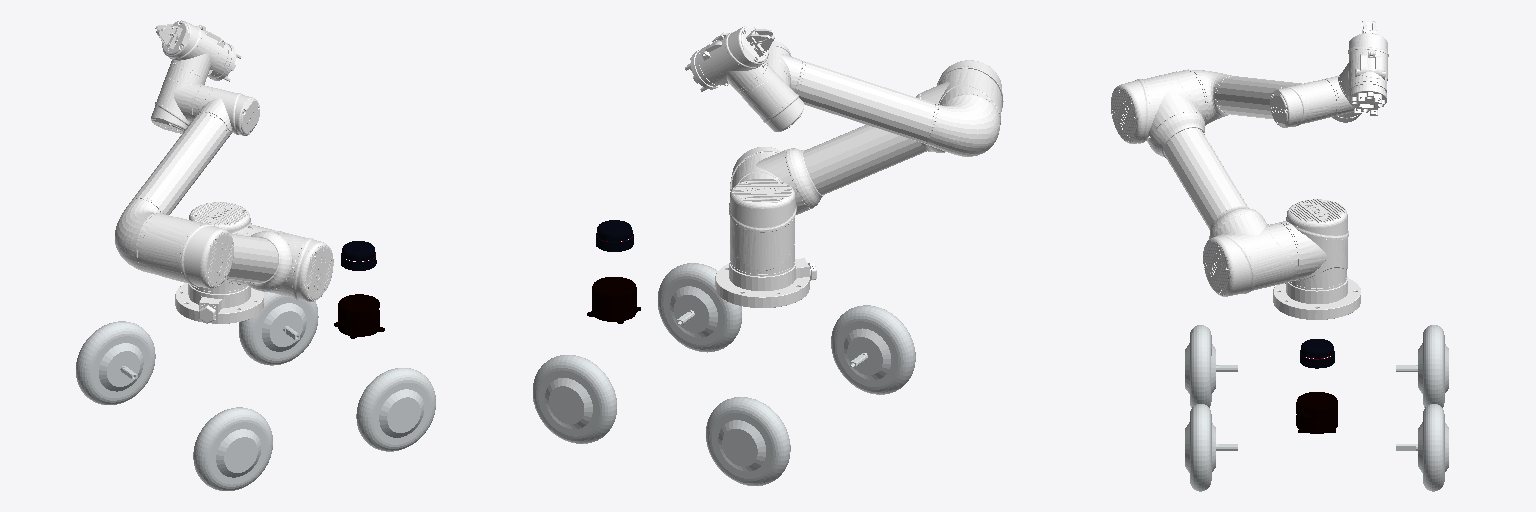
URDF robot description (car4wd):
<?xml version="1.0"?>
<robot
  name="car4wd">
  <link name="base_footprint"/>
  <link
    name="base_link">
    <inertial>
      <origin
        xyz="-0.00133489696806633 -0.000858065236190794 0.0742947770696504"
        rpy="0 0 0" />
      <mass
        value="16.922536366276" />
      <inertia
        ixx="0.280375488027476"
        ixy="-3.3746922545933E-05"
        ixz="0.00723948806637425"
        iyy="0.376422394252491"
        iyz="-0.00156225089406068"
        izz="0.379035593736401" />
    </inertial>
    <visual>
      <origin
        xyz="0 0 0"
        rpy="0 0 0" />
      <geometry>
        <mesh
          filename="package://car4wd/meshes/base_link.STL" />
      </geometry>
      <material
        name="">
        <color
          rgba="0.752941176470588 0.752941176470588 0.752941176470588 1" />
      </material>
    </visual>
    <collision>
      <origin
        xyz="0 0 0"
        rpy="0 0 0" />
      <geometry>
        <mesh
          filename="package://car4wd/meshes/base_link.STL" />
      </geometry>
    </collision>
  </link>
    <joint name="bash_link_joint" type="fixed">
        <axis rpy="0 0 0" xyz="0 0 0"/>
        <origin rpy="0 0 0" xyz="0 0 0"/>
        <parent link="base_footprint"/>
        <child link="base_link"/>
    </joint>
  <link
    name="1_Link">
    <inertial>
      <origin
        xyz="-0 0 0"
        rpy="0 0 0" />
      <mass
        value="2.61977729811143" />
      <inertia
        ixx="0"
        ixy="0"
        ixz="0"
        iyy="0"
        iyz="0"
        izz="0" />
    </inertial>
    <visual>
      <origin
        xyz="0 0 0"
        rpy="0 0 0" />
      <geometry>
        <mesh
          filename="package://car4wd/meshes/1_Link.STL" />
      </geometry>
      <material
        name="">
        <color
          rgba="0.898039215686275 0.917647058823529 0.929411764705882 1" />
      </material>
    </visual>
    <collision>
      <origin
        xyz="0 0 0"
        rpy="0 0 0" />
      <geometry>
        <mesh
          filename="package://car4wd/meshes/1_Link.STL" />
      </geometry>
    </collision>
  </link>
  <joint
    name="1"
    type="continuous">
    <origin
      xyz="-0.18 -0.152 0"
      rpy="0 1.5707963267949 3.14" />
    <parent
      link="base_link" />
    <child
      link="1_Link" />
    <axis
      xyz="0 -1 0" />
  </joint>
  <link
    name="2_Link">
    <inertial>
      <origin
        xyz="0 0 0"
        rpy="0 0 0" />
      <mass
        value="2.61977729811143" />
      <inertia
        ixx="0"
        ixy="0"
        ixz="0"
        iyy="0"
        iyz="0"
        izz="0" />
    </inertial>
    <visual>
      <origin
        xyz="0 0 0"
        rpy="0 0 0" />
      <geometry>
        <mesh
          filename="package://car4wd/meshes/2_Link.STL" />
      </geometry>
      <material
        name="">
        <color
          rgba="0.898039215686275 0.917647058823529 0.929411764705882 1" />
      </material>
    </visual>
    <collision>
      <origin
        xyz="0 0 0"
        rpy="0 0 0" />
      <geometry>
        <mesh
          filename="package://car4wd/meshes/2_Link.STL" />
      </geometry>
    </collision>
  </link>
  <joint
    name="2"
    type="continuous">
    <origin
      xyz="0.18 -0.152 0"
      rpy="3.14159265358979 1.5707963267949 0" />
    <parent
      link="base_link" />
    <child
      link="2_Link" />
    <axis
      xyz="0 -1 0" />
  </joint>
  <link
    name="3_Link">
    <inertial>
      <origin
        xyz="0 0 0"
        rpy="0 0 0" />
      <mass
        value="2.61977729811143" />
      <inertia
        ixx="0"
        ixy="0"
        ixz="0"
        iyy="0"
        iyz="0"
        izz="0" />
    </inertial>
    <visual>
      <origin
        xyz="0 0 0"
        rpy="0 0 0" />
      <geometry>
        <mesh
          filename="package://car4wd/meshes/3_Link.STL" />
      </geometry>
      <material
        name="">
        <color
          rgba="0.898039215686275 0.917647058823529 0.929411764705882 1" />
      </material>
    </visual>
    <collision>
      <origin
        xyz="0 0 0"
        rpy="0 0 0" />
      <geometry>
        <mesh
          filename="package://car4wd/meshes/3_Link.STL" />
      </geometry>
    </collision>
  </link>
  <joint
    name="3"
    type="continuous">
    <origin
      xyz="0.18 0.152 0"
      rpy="2.69705607354159E-16 -0.0054048692832654 -2.9284720911018E-15" />
    <parent
      link="base_link" />
    <child
      link="3_Link" />
    <axis
      xyz="0 1 0" />
  </joint>
  <link
    name="4_Link">
    <inertial>
      <origin
        xyz="0 0 0"
        rpy="0 0 0" />
      <mass
        value="2.61977729811143" />
      <inertia
        ixx="0"
        ixy="0"
        ixz="0"
        iyy="0"
        iyz="0"
        izz="0" />
    </inertial>
    <visual>
      <origin
        xyz="0 0 0"
        rpy="0 0 0" />
      <geometry>
        <mesh
          filename="package://car4wd/meshes/4_Link.STL" />
      </geometry>
      <material
        name="">
        <color
          rgba="0.898039215686275 0.917647058823529 0.929411764705882 1" />
      </material>
    </visual>
    <collision>
      <origin
        xyz="0 0 0"
        rpy="0 0 0" />
      <geometry>
        <mesh
          filename="package://car4wd/meshes/4_Link.STL" />
      </geometry>
    </collision>
  </link>
  <joint
    name="4"
    type="continuous">
    <origin
      xyz="-0.18 0.152 0"
      rpy="-3.14159265358974 1.5098214433719 -3.14159265358974" />
    <parent
      link="base_link" />
    <child
      link="4_Link" />
    <axis
      xyz="0 1 0" />
  </joint>
  <link
    name="laser_Link">
    <inertial>
      <origin
        xyz="-0.000209603421815946 0.000120725292981872 -0.00801987647485995"
        rpy="0 0 0" />
      <mass
        value="0.271699065752244" />
      <inertia
        ixx="0"
        ixy="0"
        ixz="0"
        iyy="0"
        iyz="0"
        izz="0" />
    </inertial>
    <visual>
      <origin
        xyz="0 0 0"
        rpy="0 0 0" />
      <geometry>
        <mesh
          filename="package://car4wd/meshes/laser_Link.STL" />
      </geometry>
      <material
        name="">
        <color
          rgba="0.0588235294117647 0.00784313725490196 0 1" />
      </material>
    </visual>
    <collision>
      <origin
        xyz="0 0 0"
        rpy="0 0 0" />
      <geometry>
        <mesh
          filename="package://car4wd/meshes/laser_Link.STL" />
      </geometry>
    </collision>
  </link>
  <joint
    name="laser"
    type="fixed">
    <origin
      xyz="0.228 0 0.105"
      rpy="0 0 0" />
    <parent
      link="base_link" />
    <child
      link="laser_Link" />
    <axis
      xyz="0 0 0" />
  </joint>
<link name="rplidar">
        <inertial>
            <mass value="1e-5"/>
            <origin rpy="0 0 0" xyz="0 0 0"/>
            <inertia ixx="1e-6" ixy="0" ixz="0" iyy="1e-6" iyz="0" izz="1e-6"/>
        </inertial>
        <visual>
            <origin rpy="0 0 0" xyz="0 0 0"/>
            <geometry>
                <mesh filename="package://car4wd/meshes/rplidar.dae"/>
            </geometry>
            <material name="blue"/>
        </visual>
        <collision>
            <origin rpy="0 0 0" xyz="0 0 0"/>
            <geometry>
                <mesh filename="package://car4wd/meshes/rplidar.dae"/> 
            </geometry>
        </collision>
    </link>
    <joint name="rplidar_joint" type="fixed">
        <axis xyz="0 1 0"/>
        <origin xyz="0.228 0.0 0.225"/>
        <parent link="base_link"/>
        <child link="rplidar"/>
    </joint>

 <link
    name="Link0">
    <inertial>
      <origin
        xyz="-0.001129 -0.0011291 0.01627"
        rpy="0 0 0" />
      <mass
        value="0.56333" />
      <inertia
        ixx="0.0011675"
        ixy="-4.7974E-05"
        ixz="1.3554E-05"
        iyy="0.0011675"
        iyz="1.3555E-05"
        izz="0.0021663" />
    </inertial>
    <visual>
      <origin
        xyz="0 0 0"
        rpy="0 0 0" />
      <geometry>
        <mesh
          filename="package://car4wd/meshes/Link0.STL" />
      </geometry>
      <material
        name="">
        <color
          rgba="17 17 17 1" />
      </material>
    </visual>
    <collision>
      <origin
        xyz="0 0 0"
        rpy="0 0 0" />
      <geometry>
        <mesh
          filename="package://car4wd/meshes/Link0.STL" />
      </geometry>
    </collision>
  </link>
<joint
    name="joint0"
    type="fixed">
    <origin
      xyz="-0.08 0 0.19"
      rpy="0 0 0" />
    <parent
      link="base_link" />
    <child
      link="Link0" />
    <axis
      xyz="0 0 0" />
  </joint>
  <link
    name="Link1">
    <inertial>
      <origin
        xyz="-8.6106E-07 0.051658 0.0053845"
        rpy="0 0 0" />
      <mass
        value="1.5667" />
      <inertia
        ixx="0.0039893"
        ixy="7.7306E-08"
        ixz="-5.125E-08"
        iyy="0.0030665"
        iyz="-0.00016458"
        izz="0.003855" />
    </inertial>
    <visual>
      <origin
        xyz="0 0 0"
        rpy="0 0 0" />
      <geometry>
        <mesh
          filename="package://car4wd/meshes/Link1.STL" />
      </geometry>
      <material
        name="">
        <color
          rgba="243 210 80 1" />
      </material>
    </visual>
    <collision>
      <origin
        xyz="0 0 0"
        rpy="0 0 0" />
      <geometry>
        <mesh
          filename="package://car4wd/meshes/Link1.STL" />
      </geometry>
    </collision>
  </link>
  <joint
    name="joint1"
    type="fixed">
    <origin
      xyz="0 0 0.0607"
      rpy="1.5708 0 0.50479" />
    <parent
      link="Link0" />
    <child
      link="Link1" />
    <axis
      xyz="0 0 0" />
  </joint>
  <link
    name="Link2">
    <inertial>
      <origin
        xyz="-5.5102E-09 0.054334 0.204"
        rpy="0 0 0" />
      <mass
        value="4.0222" />
      <inertia
        ixx="0.144"
        ixy="-7.9038E-09"
        ixz="-7.1756E-07"
        iyy="0.14175"
        iyz="-3.5278E-08"
        izz="0.009481" />
    </inertial>
    <visual>
      <origin
        xyz="0 0 0"
        rpy="0 0 0" />
      <geometry>
        <mesh
          filename="package://car4wd/meshes/Link2.STL" />
      </geometry>
      <material
        name="">
        <color
          rgba="243 210 80 1" />
      </material>
    </visual>
    <collision>
      <origin
        xyz="0 0 0"
        rpy="0 0 0" />
      <geometry>
        <mesh
          filename="package://car4wd/meshes/Link2.STL" />
      </geometry>
    </collision>
  </link>
  <joint
    name="joint2"
    type="fixed">
    <origin
      xyz="0 0.061 0.0795"
      rpy="1.5708 0 -2.0143" />
    <parent
      link="Link1" />
    <child
      link="Link2" />
    <axis
      xyz="0 0 0" />
  </joint>
  <link
    name="Link3">
    <inertial>
      <origin
        xyz="1.1466E-06 0.019915 -0.69278"
        rpy="0 0 0" />
      <mass
        value="2.2398" />
      <inertia
        ixx="0.043212"
        ixy="-3.5377E-08"
        ixz="-4.156E-07"
        iyy="0.042985"
        iyz="-0.0022331"
        izz="0.0020858" />
    </inertial>
    <visual>
      <origin
        xyz="0 0 0"
        rpy="0 0 0" />
      <geometry>
        <mesh
          filename="package://car4wd/meshes/Link3.STL" />
      </geometry>
      <material
        name="">
        <color
          rgba="243 210 80 1" />
      </material>
    </visual>
    <collision>
      <origin
        xyz="0 0 0"
        rpy="0 0 0" />
      <geometry>
        <mesh
          filename="package://car4wd/meshes/Link3.STL" />
      </geometry>
    </collision>
  </link>
  <joint
    name="joint3"
    type="fixed">
    <origin
      xyz="0.35613 -0.0795 0.76816"
      rpy="0 0.77976 0" />
    <parent
      link="Link2" />
    <child
      link="Link3" />
    <axis
      xyz="0 0 0" />
  </joint>
  <link
    name="Link4">
    <inertial>
      <origin
        xyz="4.6902E-07 0.0041877 -0.033733"
        rpy="0 0 0" />
      <mass
        value="0.46883" />
      <inertia
        ixx="0.00058204"
        ixy="-9.4123E-09"
        ixz="-5.7631E-10"
        iyy="0.00055621"
        iyz="3.0952E-05"
        izz="0.00038659" />
    </inertial>
    <visual>
      <origin
        xyz="0 0 0"
        rpy="0 0 0" />
      <geometry>
        <mesh
          filename="package://car4wd/meshes/Link4.STL" />
      </geometry>
      <material
        name="">
        <color
          rgba="243 210 80 1" />
      </material>
    </visual>
    <collision>
      <origin
        xyz="0 0 0"
        rpy="0 0 0" />
      <geometry>
        <mesh
          filename="package://car4wd/meshes/Link4.STL" />
      </geometry>
    </collision>
  </link>
  <joint
    name="joint4"
    type="fixed">
    <origin
      xyz="-0.022445 -0.0835 -0.92034"
      rpy="-3.1416 -0.53531 3.1416" />
    <parent
      link="Link3" />
    <child
      link="Link4" />
    <axis
      xyz="0 0 0" />
  </joint>
  <link
    name="Link5">
    <inertial>
      <origin
        xyz="7.2432E-07 0.0041878 -0.033733"
        rpy="0 0 0" />
      <mass
        value="0.46884" />
      <inertia
        ixx="0.00058205"
        ixy="-1.2007E-08"
        ixz="-1.8329E-10"
        iyy="0.00055621"
        iyz="3.0955E-05"
        izz="0.00038659" />
    </inertial>
    <visual>
      <origin
        xyz="0 0 0"
        rpy="0 0 0" />
      <geometry>
        <mesh
          filename="package://car4wd/meshes/Link5.STL" />
      </geometry>
      <material
        name="">
        <color
          rgba="243 210 80 1" />
      </material>
    </visual>
    <collision>
      <origin
        xyz="0 0 0"
        rpy="0 0 0" />
      <geometry>
        <mesh
          filename="package://car4wd/meshes/Link5.STL" />
      </geometry>
    </collision>
  </link>
  <joint
    name="joint5"
    type="fixed">
    <origin
      xyz="-0.040387 0.017461 0.0585"
      rpy="-1.5708 0 1.1627" />
    <parent
      link="Link4" />
    <child
      link="Link5" />
    <axis
      xyz="0 0 0" />
  </joint>
  <link
    name="Link6">
    <inertial>
      <origin
        xyz="6.9389E-18 0.010011 -2.7756E-17"
        rpy="0 0 0" />
      <mass
        value="0.043466" />
      <inertia
        ixx="1.6279E-05"
        ixy="6.7763E-21"
        ixz="-1.2705E-21"
        iyy="3.1588E-05"
        iyz="-7.6233E-21"
        izz="1.8238E-05" />
    </inertial>
    <visual>
      <origin
        xyz="0 0 0"
        rpy="0 0 0" />
      <geometry>
        <mesh
          filename="package://car4wd/meshes/Link6.STL" />
      </geometry>
      <material
        name="">
        <color
          rgba="221 221 221 221" />
      </material>
    </visual>
    <collision>
      <origin
        xyz="0 0 0"
        rpy="0 0 0" />
      <geometry>
        <mesh
          filename="package://car4wd/meshes/Link6.STL" />
      </geometry>
    </collision>
  </link>
  <joint
    name="joint6"
    type="fixed">
    <origin
      xyz="0 0 0.0165"
      rpy="1.5708 0 1.7252" />
    <parent
      link="Link5" />
    <child
      link="Link6" />
    <axis
      xyz="0 0 0" />
  </joint>
  <link
    name="Link_grip">
    <inertial>
      <origin
        xyz="0.00025657 1.1387E-05 0.072949"
        rpy="0 0 0" />
      <mass
        value="0.36205" />
      <inertia
        ixx="0.00059204"
        ixy="-6.3398E-08"
        ixz="3.1052E-06"
        iyy="0.0004994"
        iyz="-1.0655E-06"
        izz="0.00019612" />
    </inertial>
    <visual>
      <origin
        xyz="0 0 0"
        rpy="0 0 0" />
      <geometry>
        <mesh
          filename="package://car4wd/meshes/Link_grip.STL" />
      </geometry>
      <material
        name="">
        <color
          rgba="43 43 43 1" />
      </material>
    </visual>
    <collision>
      <origin
        xyz="0 0 0"
        rpy="0 0 0" />
      <geometry>
        <mesh
          filename="package://car4wd/meshes/Link_grip.STL" />
      </geometry>
    </collision>
  </link>
  <joint
    name="joint_grip"
    type="fixed">
    <origin
      xyz="0 0.0016 0"
      rpy="1.5708 -1.5708 0" />
    <parent
      link="Link6" />
    <child
      link="Link_grip" />
    <axis
      xyz="0 0 0" />
  </joint>
 

</robot>

--- Render facts (derived) ---
Views: 3 orthographic renders of the robot side by side, from view 1: azimuth 30°, elevation 25°; view 2: azimuth 150°, elevation 25°; view 3: azimuth 270°, elevation 25°.
Robot: car4wd — 16 links, 15 joints (4 continuous, 11 fixed); root link base_footprint; default pose: every joint at zero.
Visible links, largest first — view 1: Link2, Link3, 1_Link, 4_Link, 2_Link, 3_Link, Link0, Link5, Link4, Link1, laser_Link, rplidar (+1 smaller); view 2: Link2, Link3, Link1, 1_Link, 4_Link, 3_Link, 2_Link, Link0, Link5, Link4, laser_Link, rplidar (+1 smaller); view 3: Link2, Link3, Link1, Link0, 2_Link, 3_Link, 4_Link, 1_Link, Link5, laser_Link, rplidar, Link6 (+2 smaller).
Link boxes in pixels (box(x1,y1,x2,y2)): Link2: box(136, 213, 333, 301); Link3: box(115, 85, 259, 269); 1_Link: box(193, 407, 272, 490); 4_Link: box(76, 321, 155, 404); 2_Link: box(356, 368, 435, 451); 3_Link: box(239, 292, 318, 365); Link0: box(175, 283, 263, 323); Link5: box(162, 20, 231, 78); Link4: box(151, 65, 205, 133); Link1: box(189, 202, 255, 293); laser_Link: box(334, 294, 384, 338); rplidar: box(341, 241, 376, 270); Link2: box(730, 60, 1003, 214); Link3: box(766, 41, 999, 156); Link1: box(729, 179, 796, 276); 1_Link: box(831, 305, 915, 394); 4_Link: box(706, 397, 790, 485); 3_Link: box(533, 355, 616, 443); 2_Link: box(658, 263, 741, 352); Link0: box(715, 258, 816, 307); Link5: box(695, 26, 768, 89); Link4: box(735, 62, 804, 131); laser_Link: box(587, 277, 640, 323); rplidar: box(596, 220, 633, 251); Link2: box(1111, 70, 1299, 296); Link3: box(1188, 69, 1338, 127); Link1: box(1282, 199, 1348, 290); Link0: box(1273, 276, 1360, 319); 2_Link: box(1185, 404, 1237, 491); 3_Link: box(1396, 404, 1448, 491); 4_Link: box(1396, 325, 1448, 407); 1_Link: box(1185, 325, 1237, 407); Link5: box(1342, 33, 1388, 92); laser_Link: box(1296, 392, 1337, 433); rplidar: box(1300, 339, 1334, 368); Link6: box(1348, 87, 1386, 115).
Bounding box of the posed robot: 0.6985 × 0.6536 × 0.8401 m (x, y, z).
Meshes: 15 distinct files referenced, 14 mesh visuals loaded (13 binary STL, 1 Collada DAE); not drawn: 1 (reference not matched to a file when rendering).